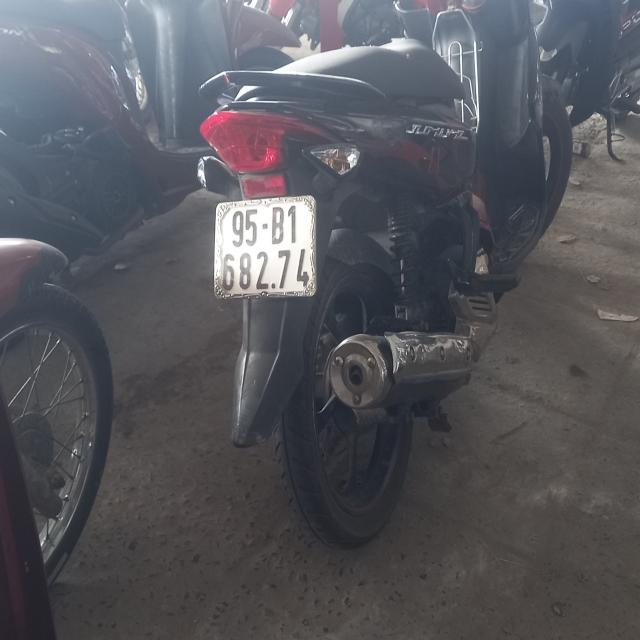1: (287, 204, 296, 243)
2: (256, 252, 268, 289)
4: (297, 249, 309, 288)
5: (246, 209, 259, 246)
6: (222, 253, 235, 290)
7: (279, 250, 289, 288)
8: (240, 252, 250, 290)
9: (232, 211, 244, 246)
B: (271, 207, 284, 244)
